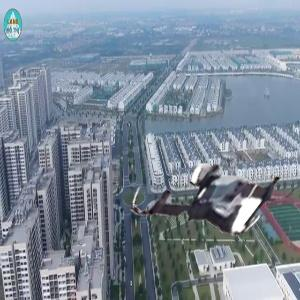drone: (142, 129, 280, 267)
